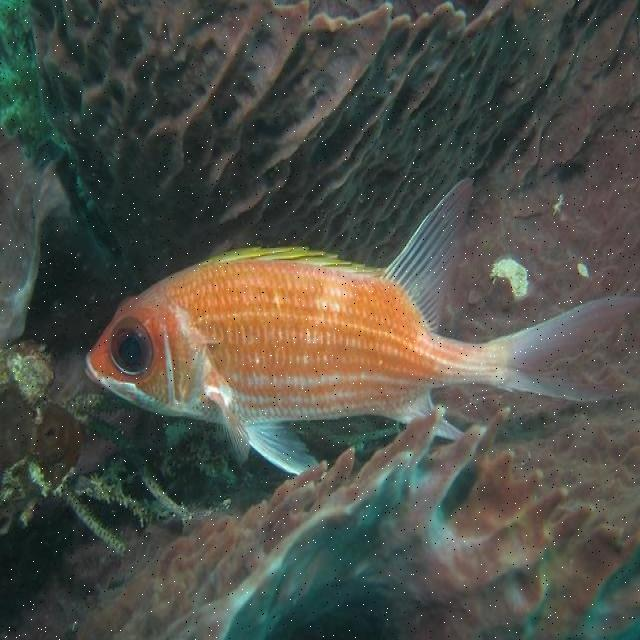fish: (88, 175, 639, 477)
